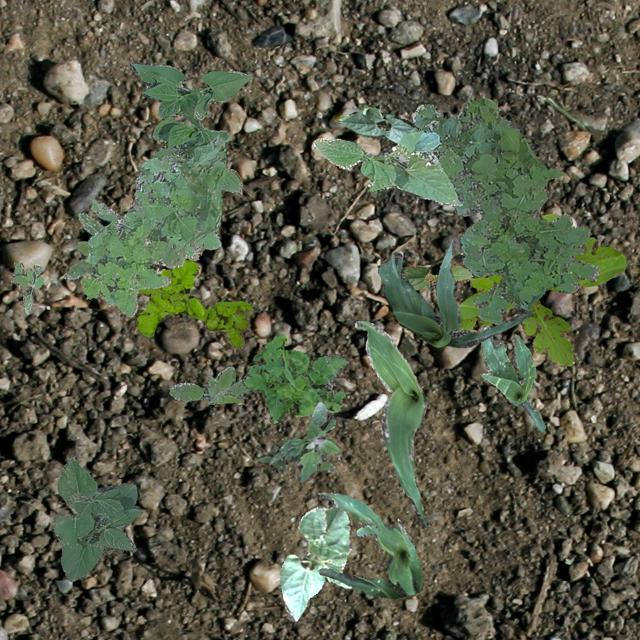crop: (376, 240, 532, 346), (130, 62, 252, 196), (353, 320, 428, 526), (52, 454, 142, 580), (318, 490, 422, 598), (312, 130, 462, 204), (278, 504, 350, 620), (480, 324, 544, 431), (337, 106, 418, 142), (402, 264, 472, 290)
weed: (412, 96, 598, 324), (80, 132, 228, 316), (458, 212, 624, 364), (134, 258, 252, 348), (240, 332, 348, 422), (260, 400, 340, 480), (168, 366, 248, 404), (64, 212, 102, 278), (10, 260, 42, 314)
